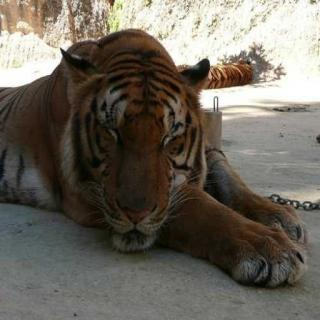Tiger: (0, 23, 310, 294), (199, 59, 210, 63)
